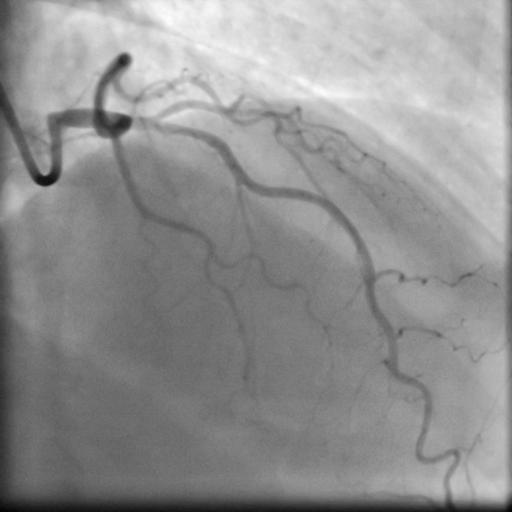Stenosis: (153, 115, 201, 138)
